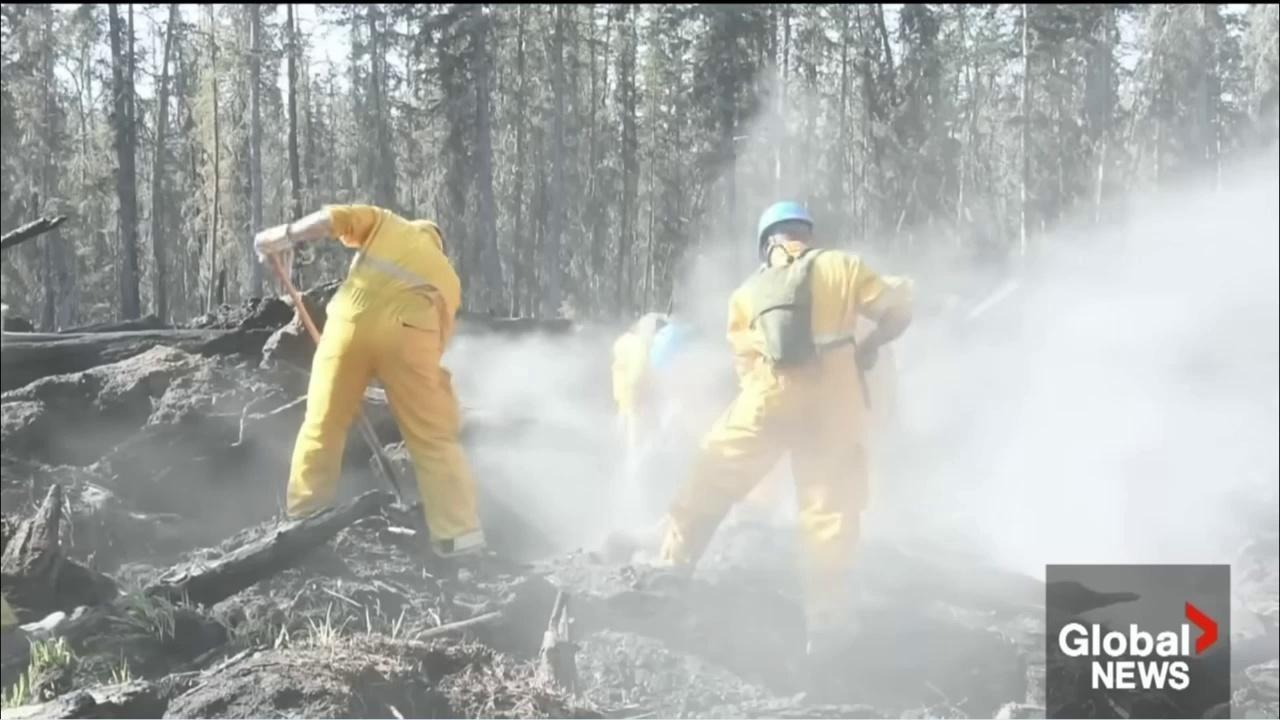smoke: (430, 60, 1278, 720)
